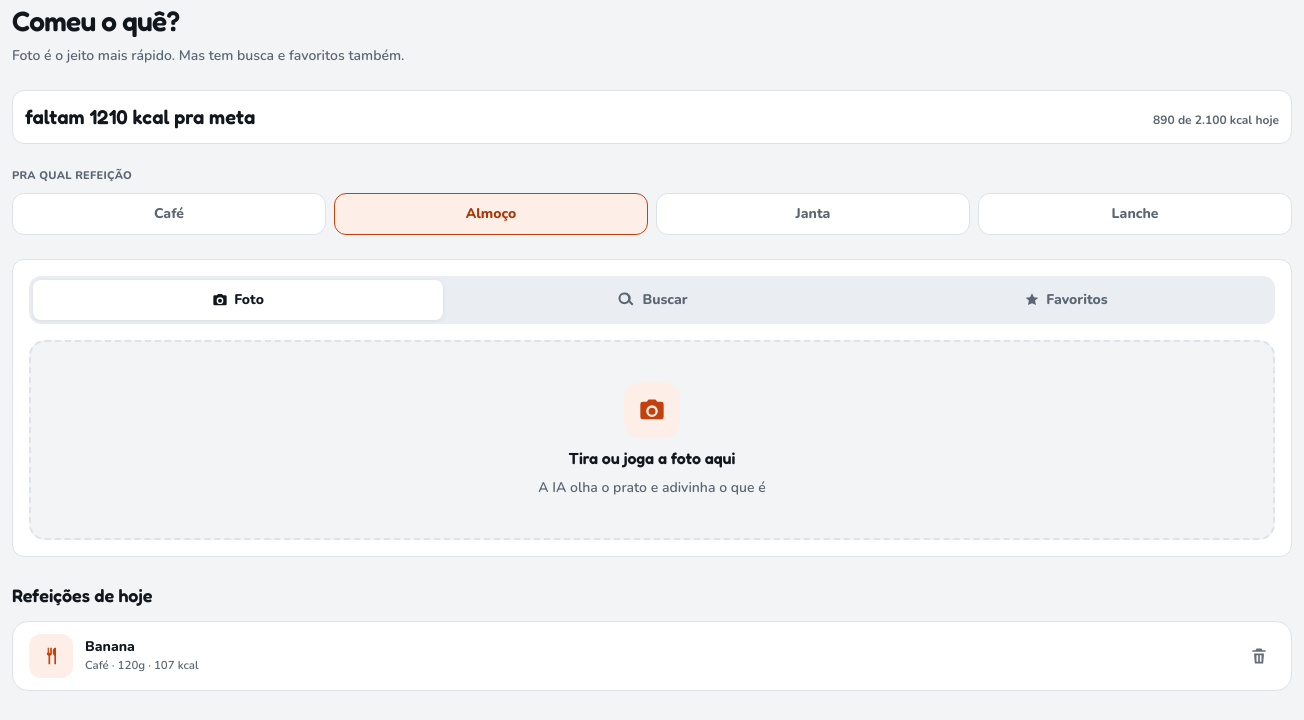
it: NutritionPage favourites tab › says so when the favourites cannot be loaded
The image size is (1304, 720).
What coordinates should you click on to do the following:
click the button "Favoritos"
I would click on:
 (1066, 300)
Its box is x1=861 y1=280 x2=1271 y2=320.
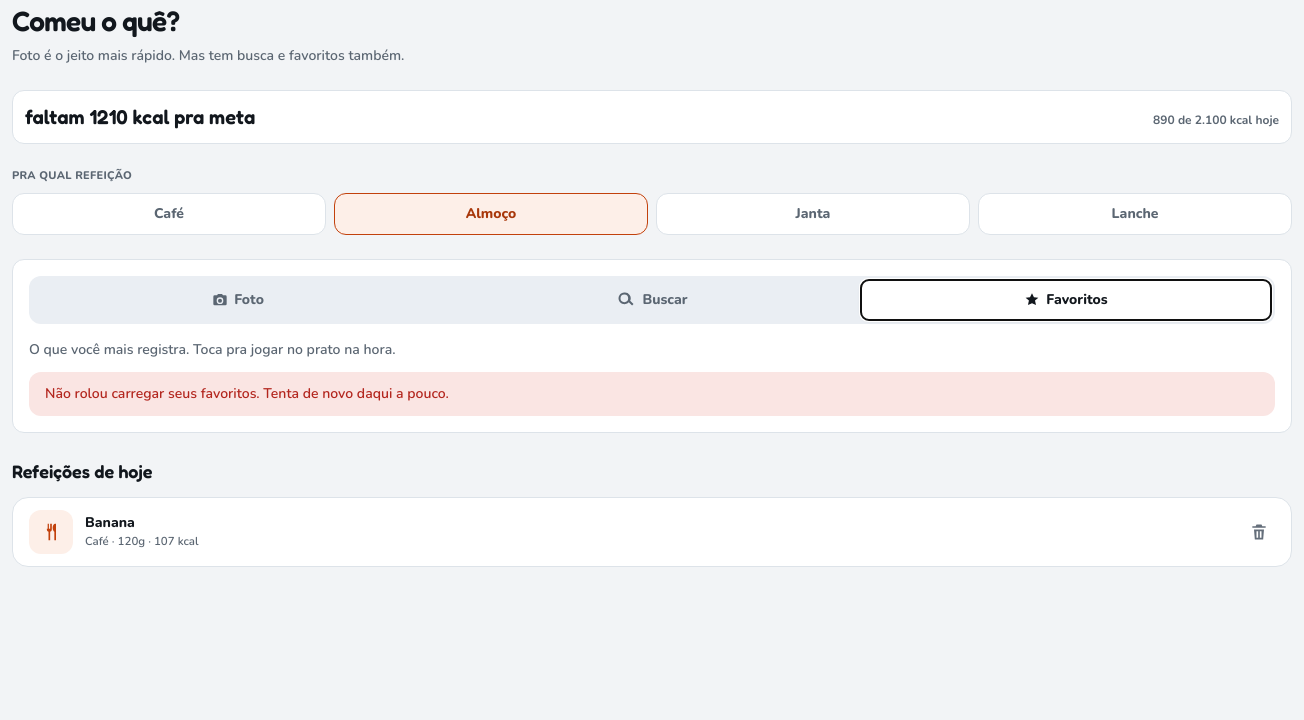
Expected: the message reads "Não rolou carregar seus favoritos. Tenta de novo daqui a pouco.", x1=45 y1=384 x2=449 y2=402
